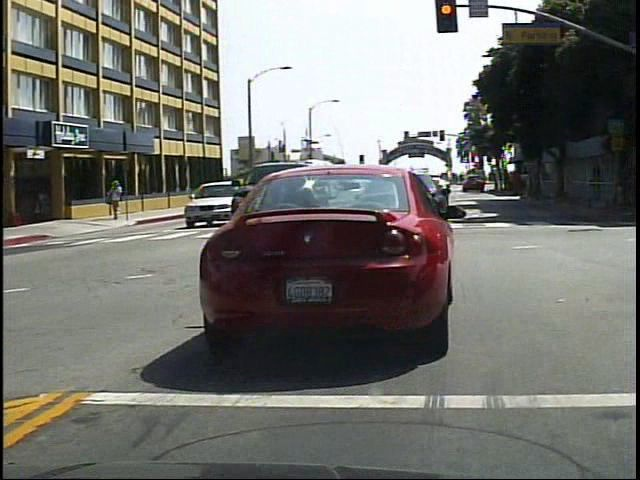person: (108, 176, 130, 225)
